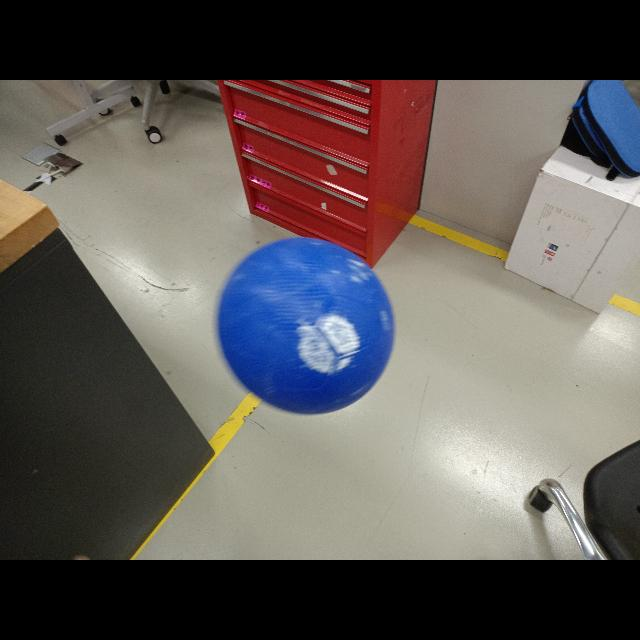B: (217, 234, 397, 416)
